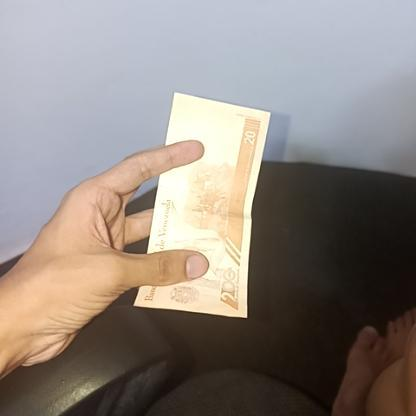twenty-back-vef: (134, 90, 269, 320)
